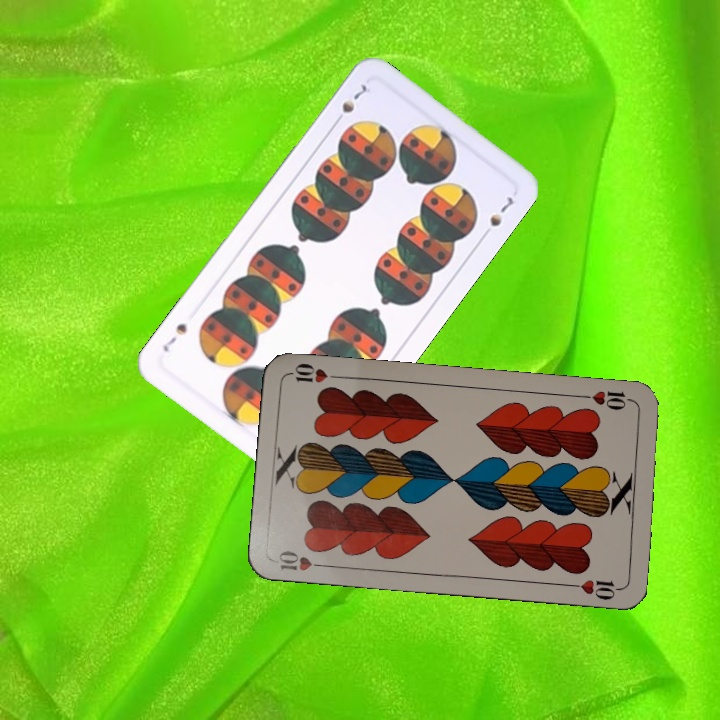H10: (577, 386, 636, 413), (274, 546, 331, 573)
S7: (329, 81, 370, 128)
